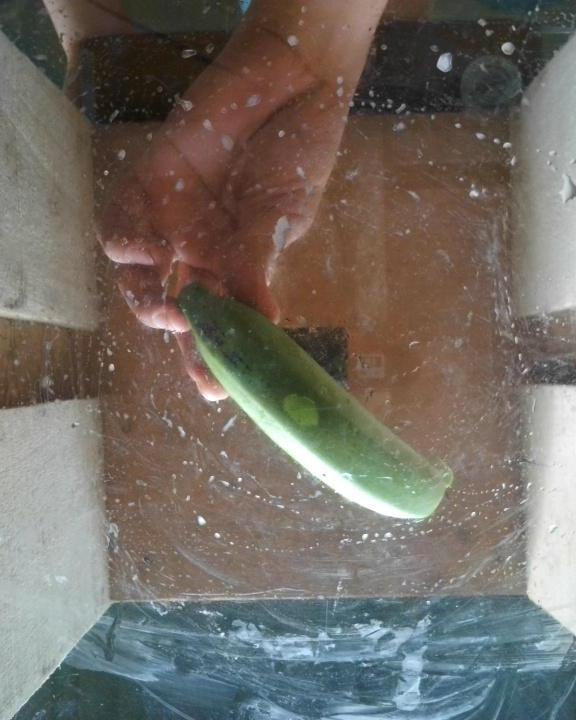CLASS B: (177, 277, 455, 522)
Class A: (197, 309, 258, 379)
